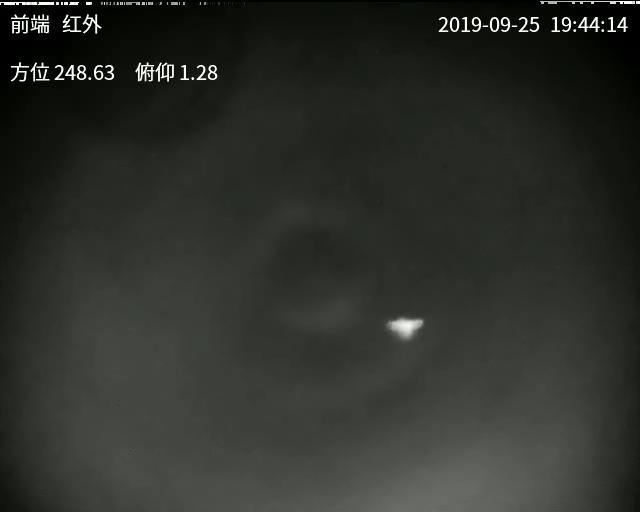uav: (383, 312, 427, 344)
